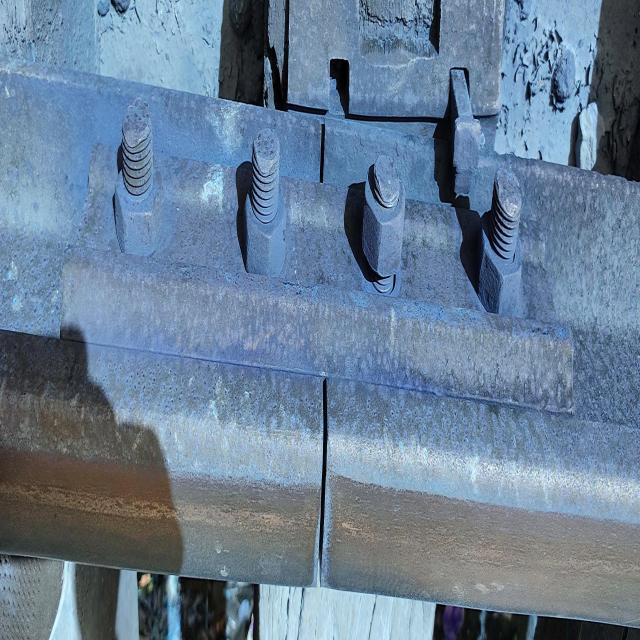Defective Joint: (327, 59, 349, 119)
Good Joint: (85, 109, 593, 449)
